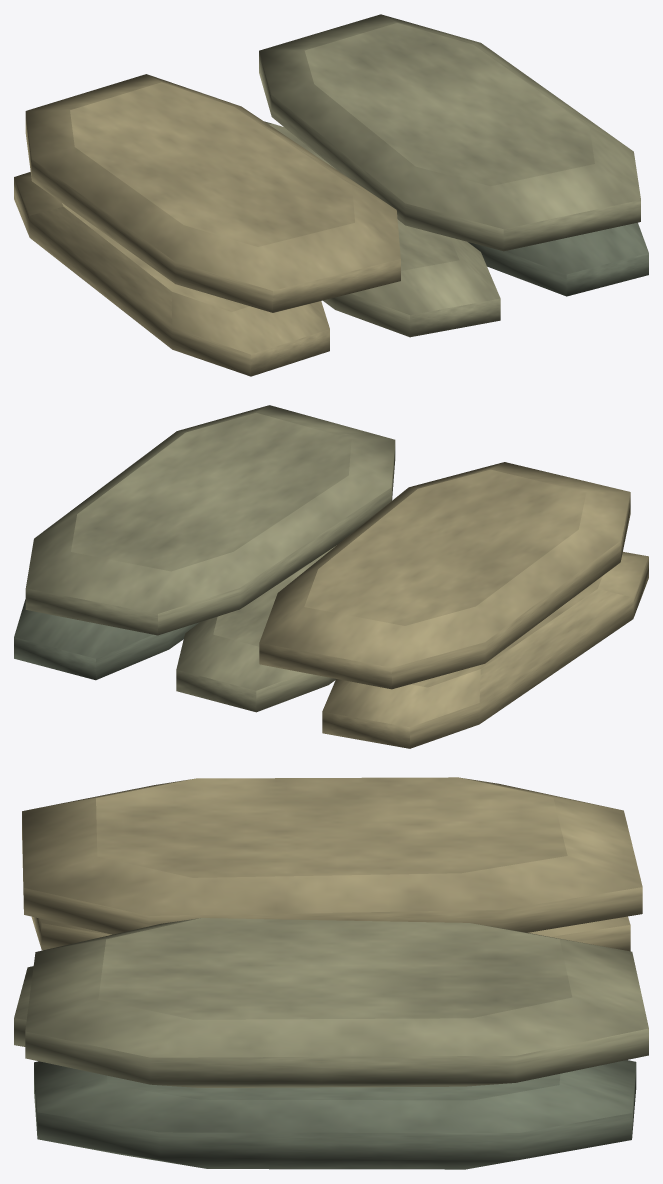
File: foundation-3.fbx
3 renders of one model, top to bottom at view 1: azimuth 30°, elevation 25°; view 2: azimuth 150°, elevation 25°; view 3: azimuth 270°, elevation 25°, orthographic. The views are drawn at different scales.
Visible parts, largest first — view 1: foundation-3__Geometry; view 2: foundation-3__Geometry; view 3: foundation-3__Geometry.
Part boxes in pixels (left/top/right/bottom): foundation-3__Geometry: left=14, top=14, right=648, bottom=376; foundation-3__Geometry: left=14, top=405, right=648, bottom=748; foundation-3__Geometry: left=14, top=777, right=648, bottom=1169.
Bounding box in the file's own units: 0.983 × 0.2364 × 0.9435.
1 material, 1 textured.
